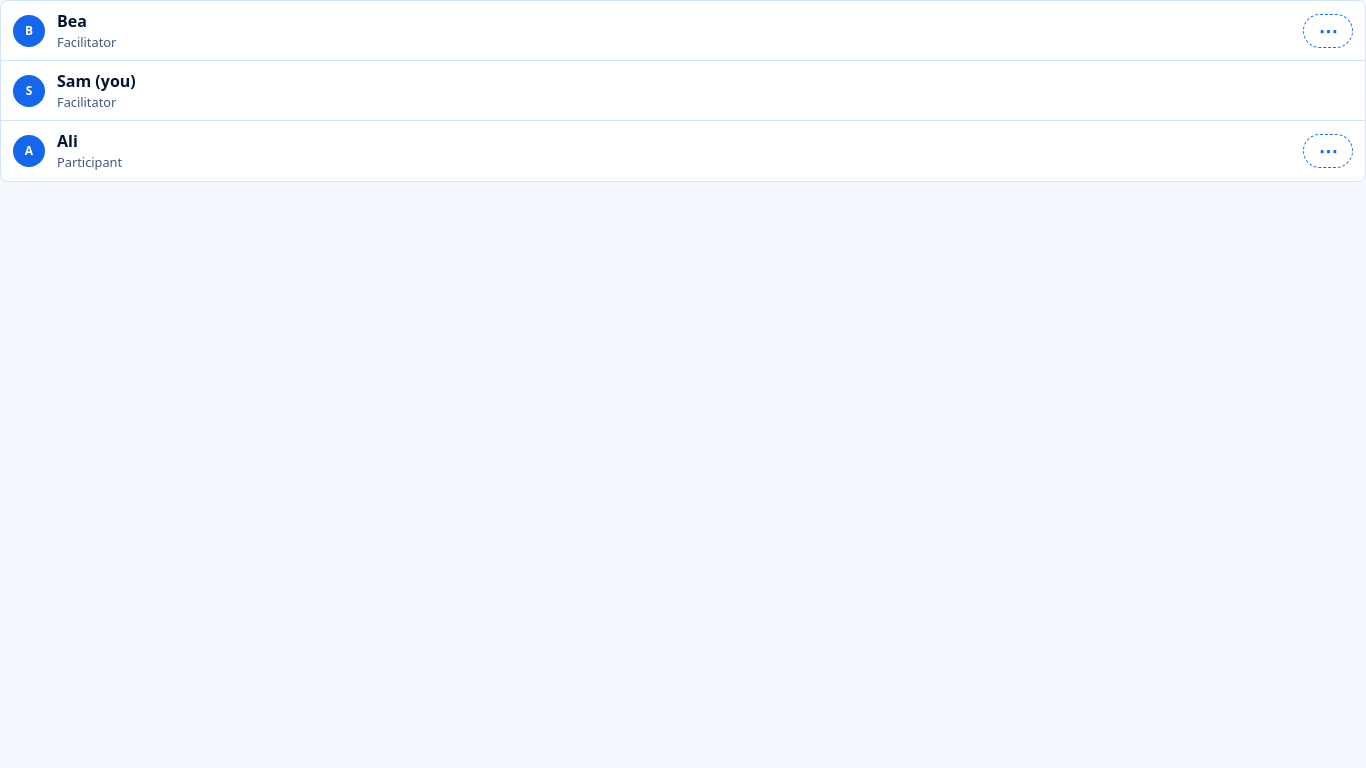
Test: ParticipantList › explains why a team lead cannot be removed
Click the button named "Actions for Bea".
click(1328, 31)  # box [1303,14,1353,48]
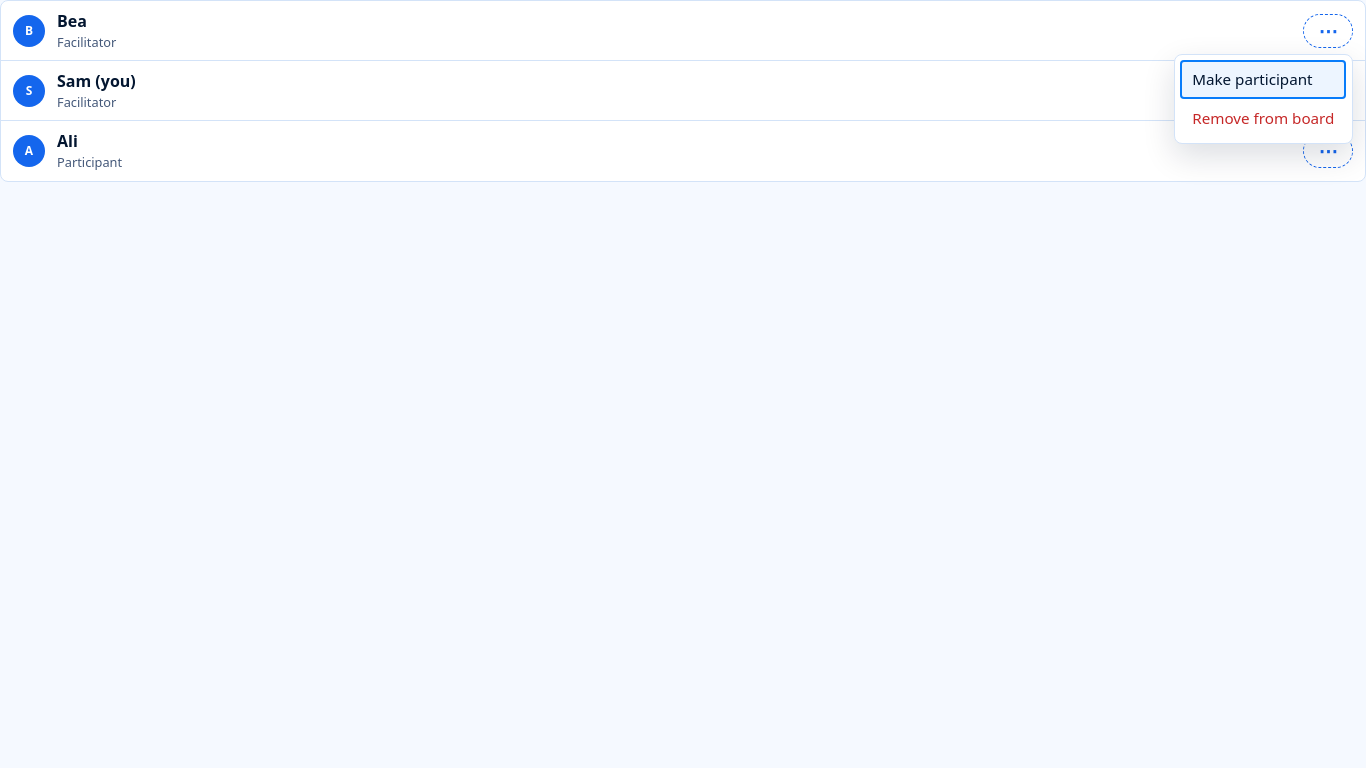
Click the menu item "Remove from board".
click(1263, 118)  # box [1180,99,1346,138]
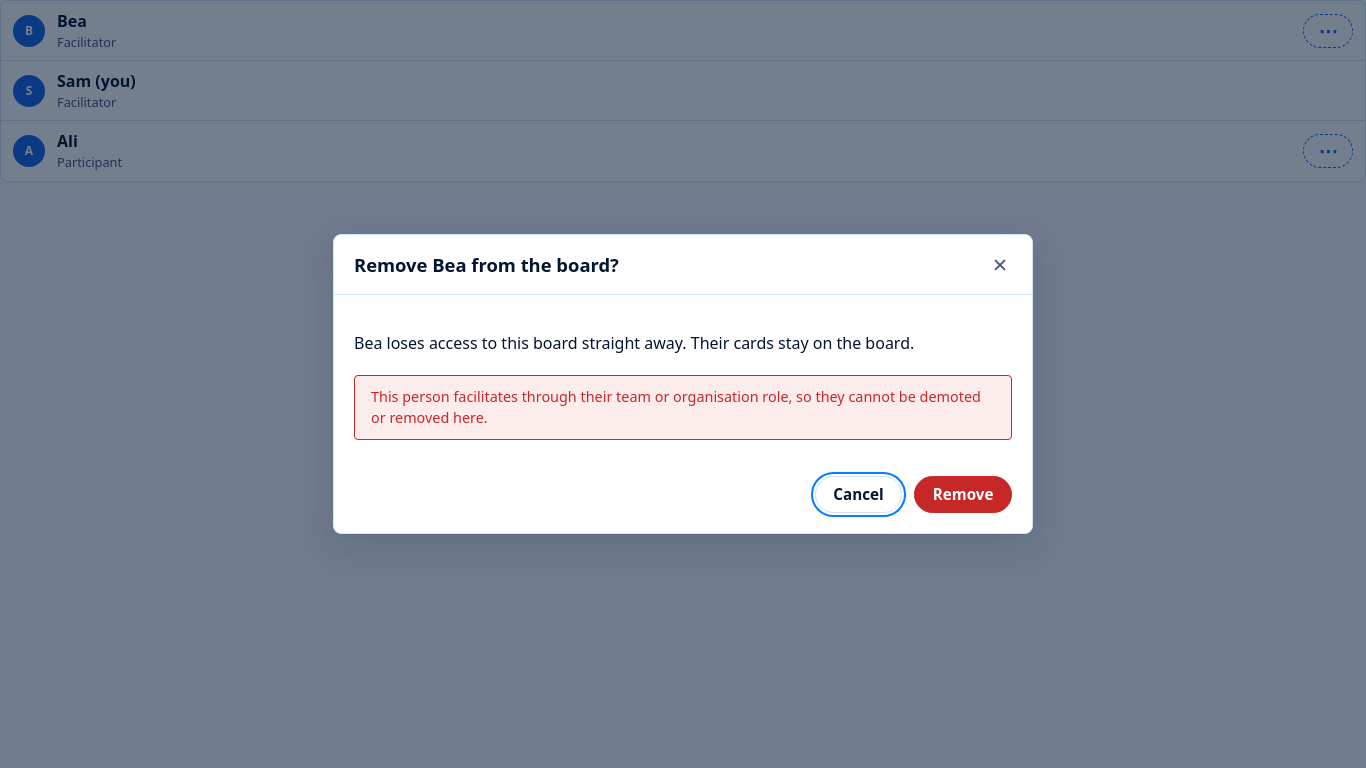
Now the message shows "This person facilitates through their team or organisation role", box [371,387,981,427]
